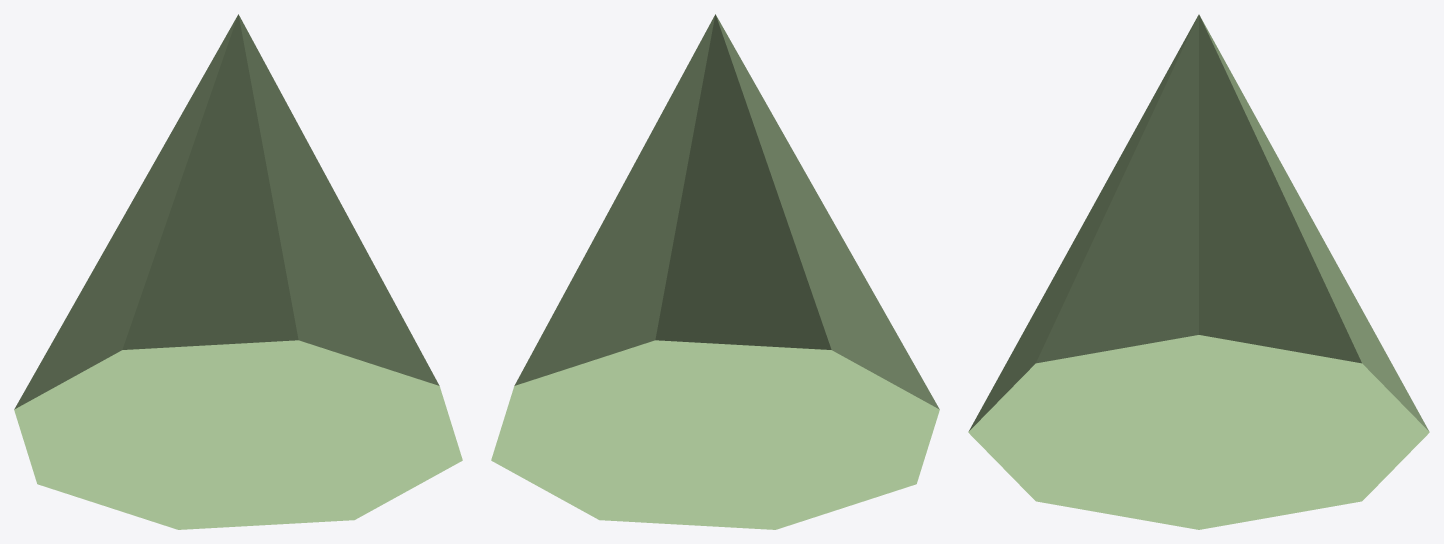
The model's file is grass_tuft_01.glb.
3 views of the same model, side by side, from view 1: azimuth 30°, elevation 25°; view 2: azimuth 150°, elevation 25°; view 3: azimuth 270°, elevation 25° (orthographic).
Parts seen in each view (by area): view 1: 草簇; view 2: 草簇; view 3: 草簇.
Boxes of the visible parts, x1=… form: 草簇: x1=14, y1=14, x2=462, y2=529; 草簇: x1=491, y1=14, x2=939, y2=529; 草簇: x1=968, y1=14, x2=1429, y2=529.
Size of the model in its own units: 1 by 1 by 1.
